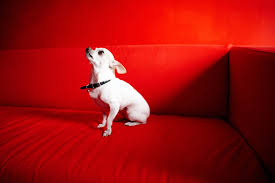chihuahua: (63, 31, 168, 151)
